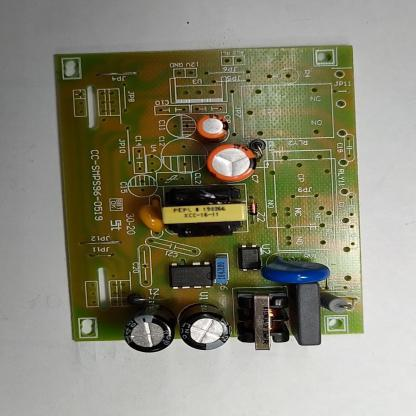Cap1: (206, 144, 258, 182)
Cap2: (197, 113, 230, 139)
Cap3: (178, 302, 232, 351)
Cap4: (122, 306, 176, 353)
MOSFET: (169, 260, 214, 290)
Mov: (260, 254, 330, 284)
Resistor: (320, 291, 348, 313)
Transformer: (162, 186, 247, 238), (237, 292, 292, 351)
